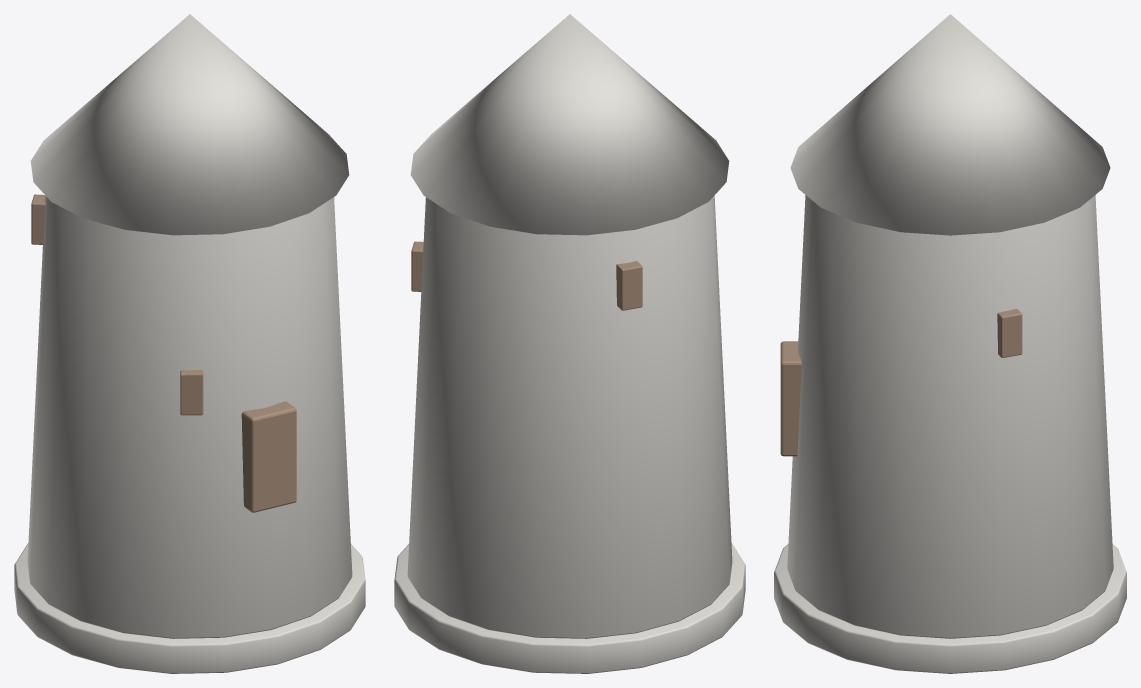
File: lm_celta_tower.glb
The picture shows the model from 3 angles, left to right: view 1: azimuth 30°, elevation 25°; view 2: azimuth 150°, elevation 25°; view 3: azimuth 270°, elevation 25°; orthographic projection.
Parts seen in each view (by area): view 1: lm_celta_tower; view 2: lm_celta_tower; view 3: lm_celta_tower.
Boxes of the visible parts, <box> form: lm_celta_tower: <box>14,14,365,673</box>; lm_celta_tower: <box>394,14,745,673</box>; lm_celta_tower: <box>774,14,1126,673</box>.
Size of the model in its own units: 5.4 by 9.9 by 5.4.
